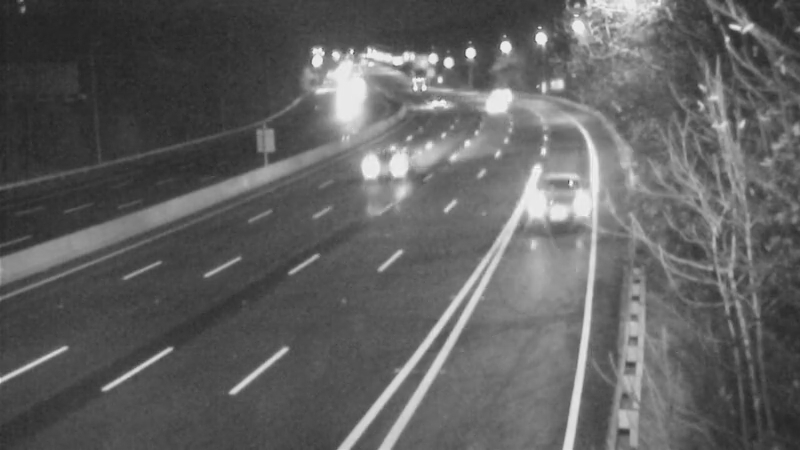vehicle: (499, 169, 579, 249), (344, 120, 424, 200), (391, 59, 441, 109), (480, 68, 530, 118), (461, 78, 511, 128), (323, 66, 373, 116)
